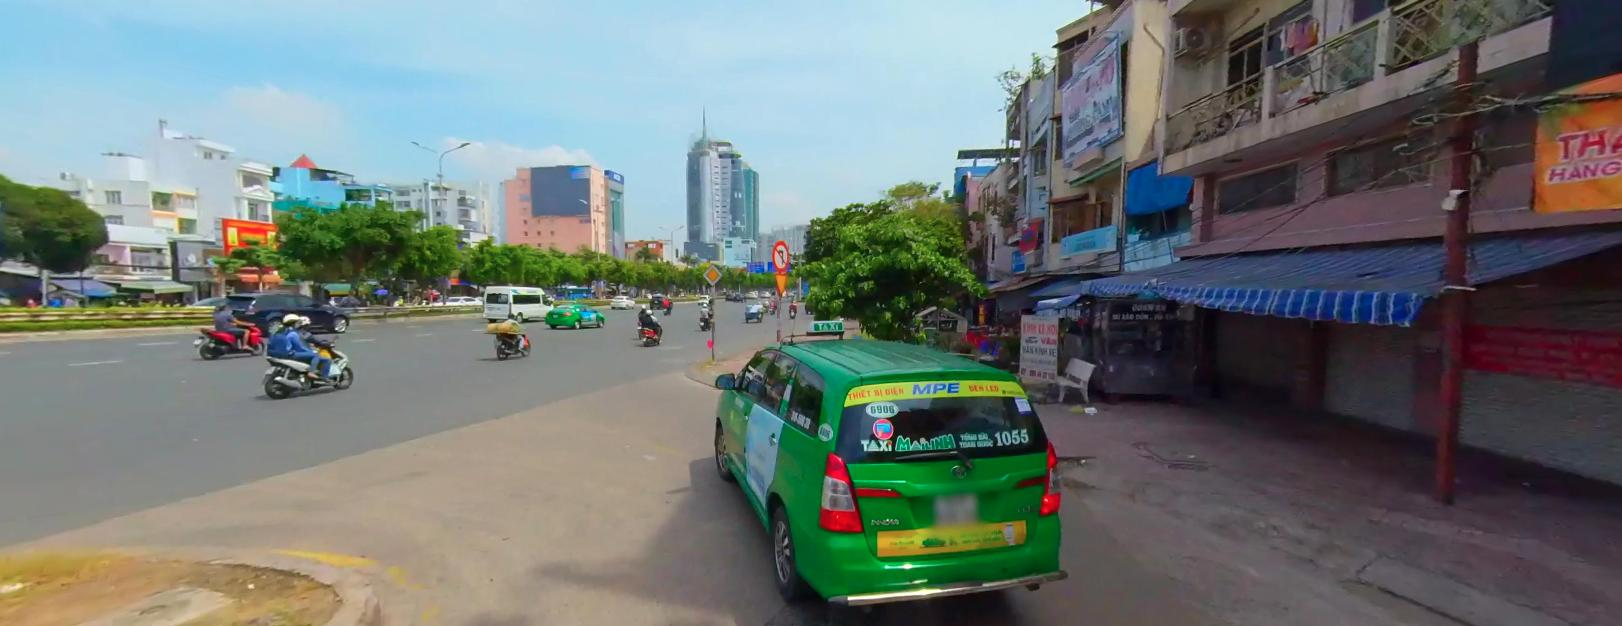Cam re: (771, 238, 789, 270), (771, 238, 788, 269), (773, 239, 789, 270), (772, 239, 788, 270), (772, 239, 788, 269), (773, 239, 788, 269)
Nguy hiem: (774, 270, 788, 296), (773, 271, 788, 295), (774, 271, 788, 295), (775, 272, 788, 295), (774, 271, 787, 294), (774, 272, 787, 294)
